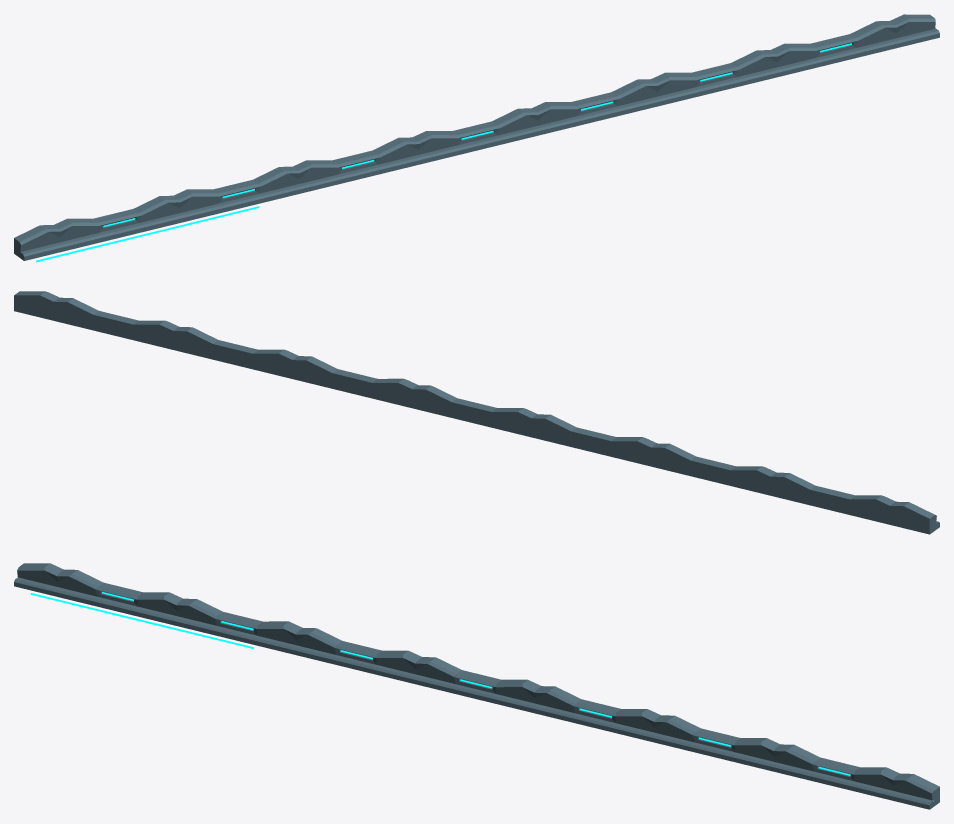
Rendered from cenario_side_walk.fbx.
The picture shows the model from 3 angles, top to bottom: view 1: azimuth 30°, elevation 25°; view 2: azimuth 150°, elevation 25°; view 3: azimuth 330°, elevation 25°; orthographic projection.
Parts seen in each view (by area): view 1: Cube.001, Cube.004; view 2: Cube.001; view 3: Cube.001, Cube.004.
Part boxes in pixels (box(x1,y1,x2,y2)): Cube.001: box(14, 14, 939, 260); Cube.004: box(36, 206, 259, 262); Cube.001: box(14, 291, 939, 534); Cube.001: box(14, 563, 939, 809); Cube.004: box(31, 593, 253, 648).
Size of the model in its own units: 5755 by 173 by 111.
